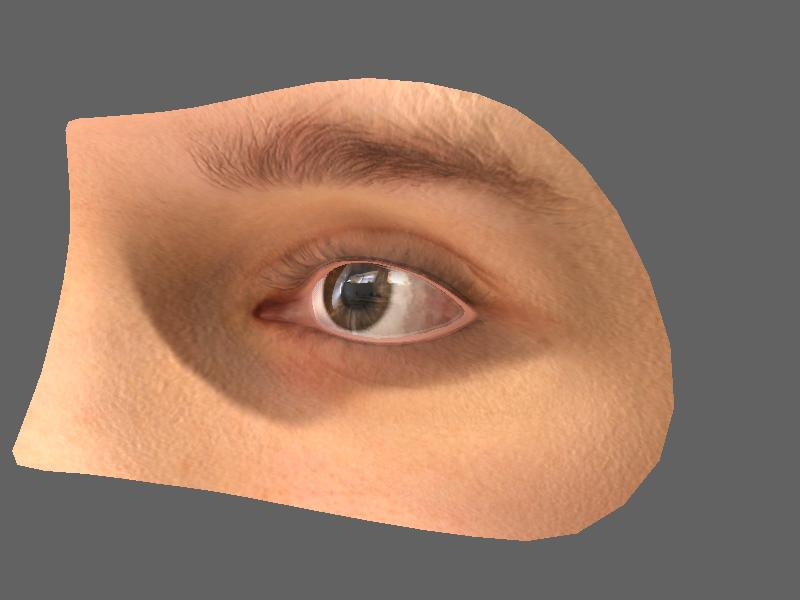iris: (320, 263, 409, 330)
